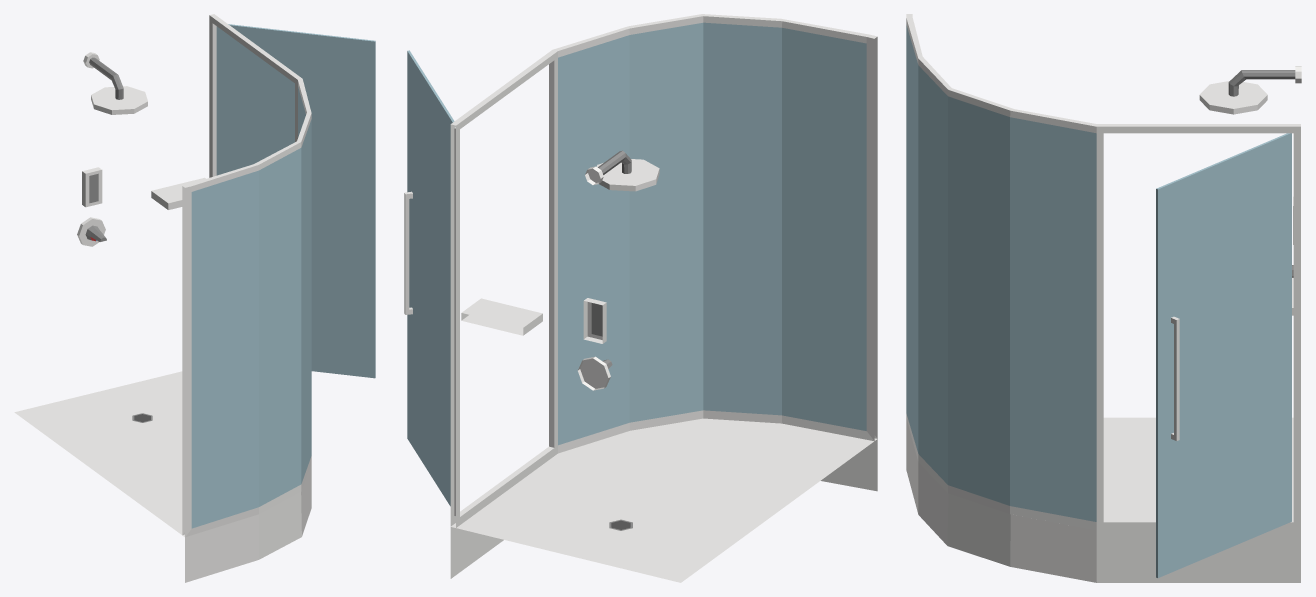
File: Shower_set_2.fbx
3 views of the same model, side by side, from view 1: azimuth 30°, elevation 25°; view 2: azimuth 150°, elevation 25°; view 3: azimuth 270°, elevation 25° (orthographic). The views are drawn at different scales.
Visible parts, largest first — view 1: Shower_set_2; view 2: Shower_set_2; view 3: Shower_set_2.
Boxes of the visible parts, x1,y1,x2,y2 form: Shower_set_2: (14, 14, 375, 582); Shower_set_2: (404, 14, 877, 582); Shower_set_2: (906, 14, 1301, 582).
Size of the model in its own units: 231 by 228 by 291.
